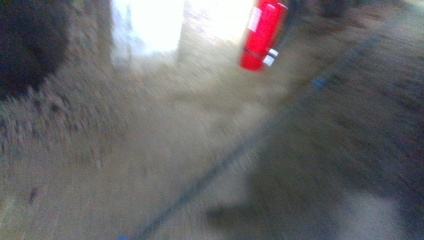fire_extinguisher: (238, 0, 289, 71)
